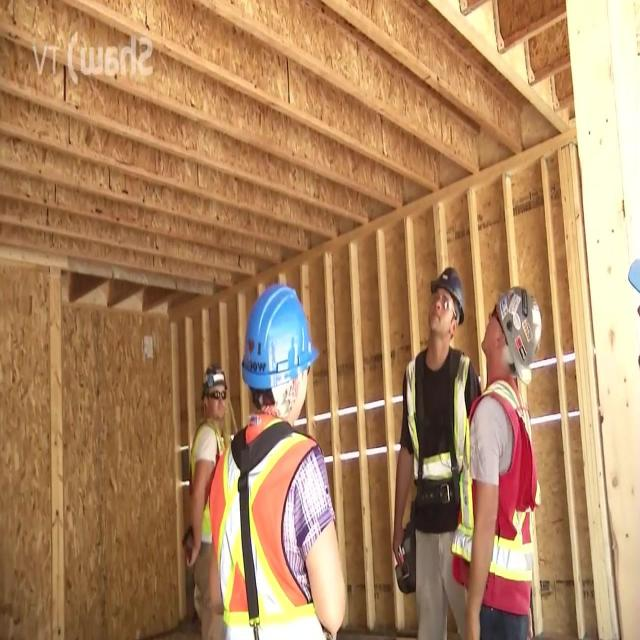Reflective-Jacket: (204, 418, 352, 640), (448, 380, 552, 610), (389, 346, 481, 546), (178, 412, 230, 564)
Safety-Helmet: (232, 271, 324, 406), (481, 276, 551, 388), (421, 255, 469, 335), (193, 356, 233, 412)
